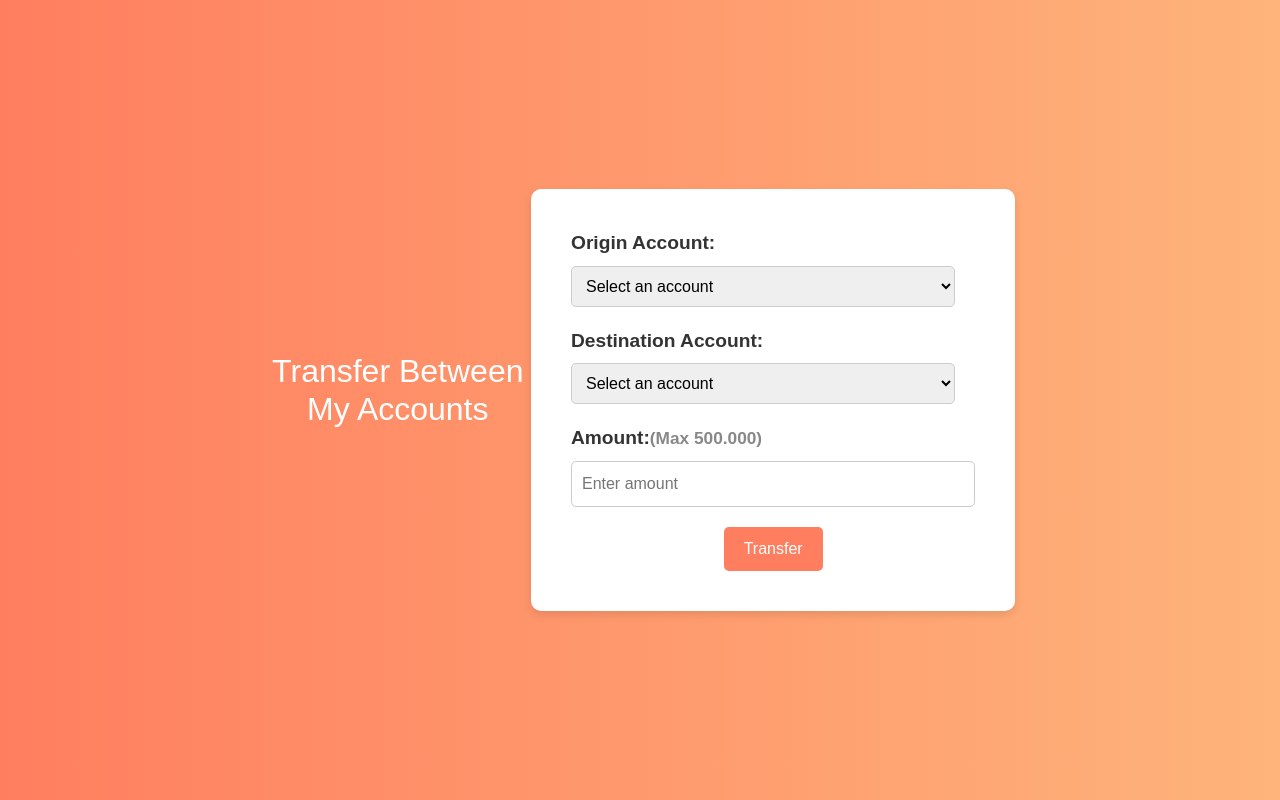
Test: TransferBetweenMyAccounts Component › shows error message when fields are empty
What coordinates should you click on to do the following:
click the button "Transfer"
I would click on:
 (773, 549)
Its box is [724,527,823,571].
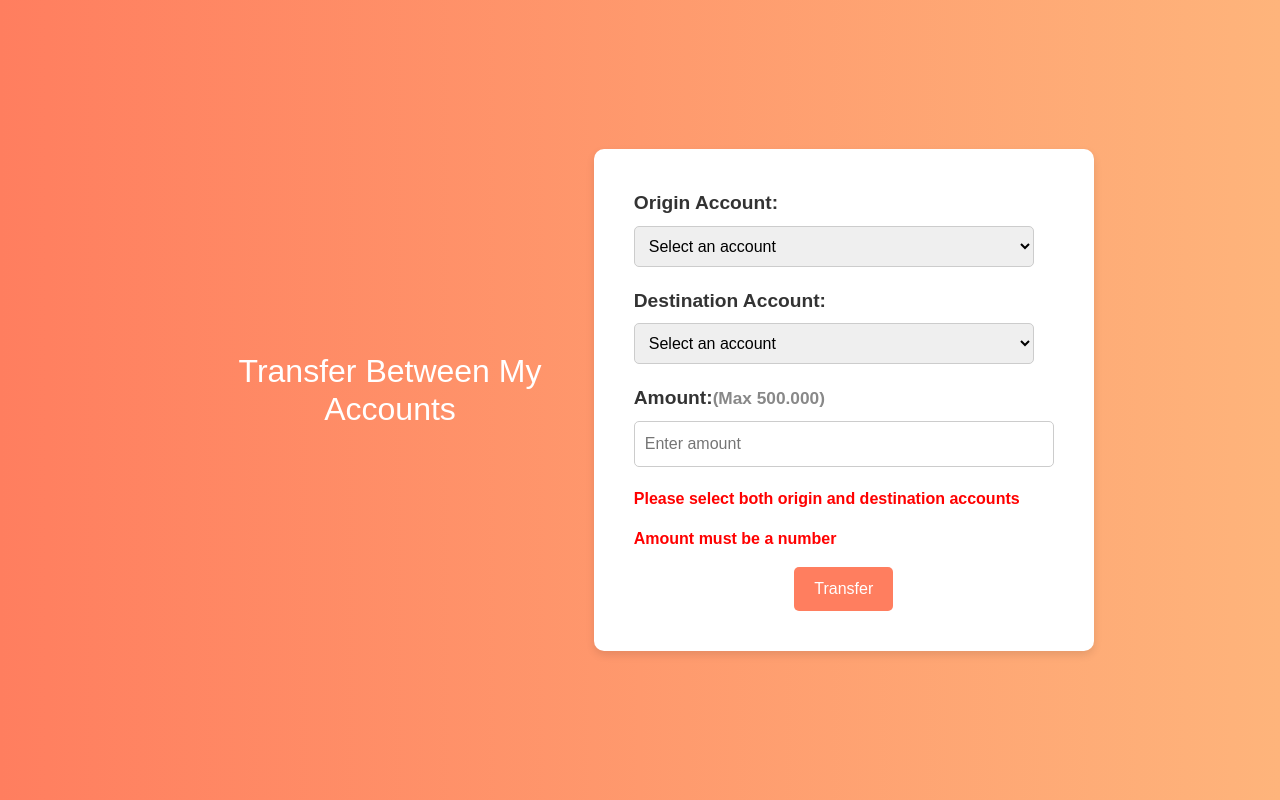
Now the element with test id "error-messages" shows "Please select both origin and destination accounts", box [634,490,1020,507]
